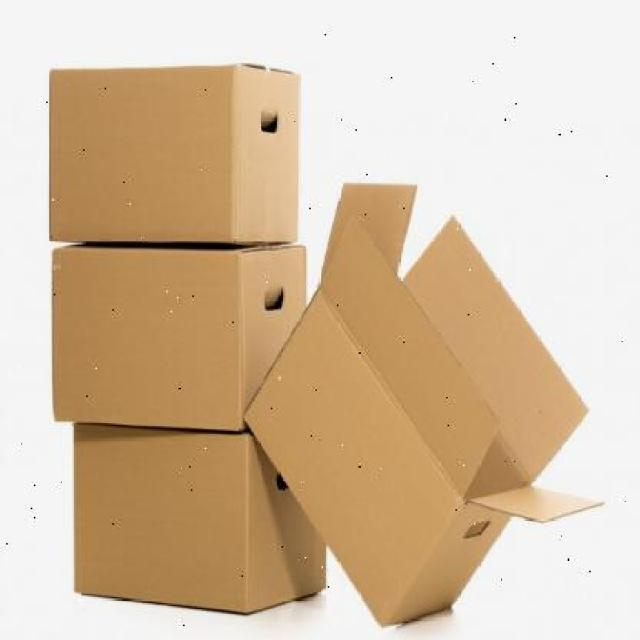BoxFace: (244, 288, 460, 628), (50, 248, 241, 426), (48, 64, 230, 244), (76, 432, 250, 618)
